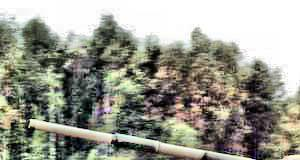tanks: (31, 122, 256, 160), (286, 157, 300, 160)
